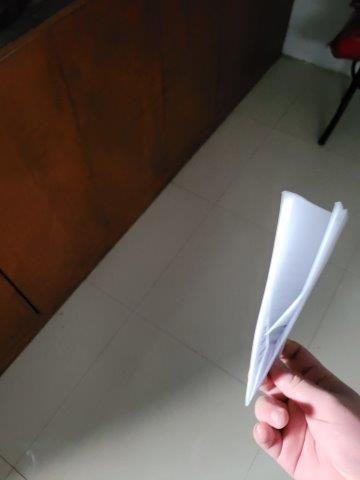kertas: (246, 191, 348, 411)
